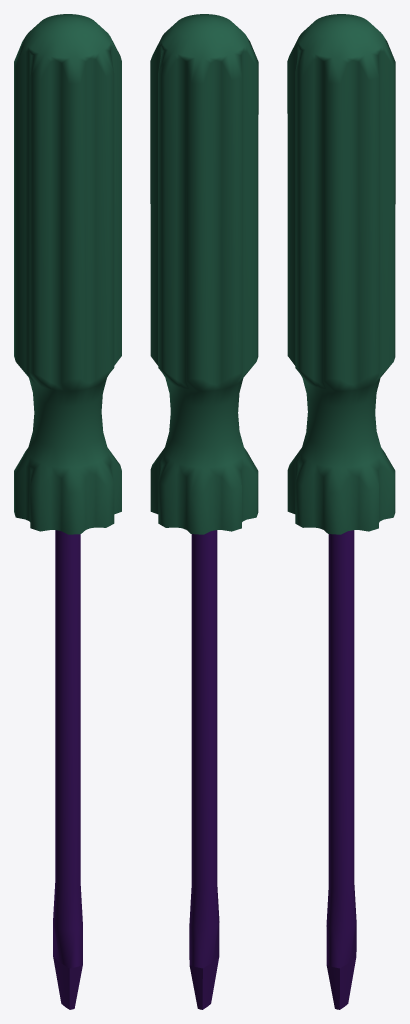
Rendered from Screwdriver.fbx.
3 views of the same model, side by side, from view 1: azimuth 30°, elevation 25°; view 2: azimuth 150°, elevation 25°; view 3: azimuth 330°, elevation 25° (orthographic).
Parts seen in each view (by area): view 1: Screwdriver; view 2: Screwdriver; view 3: Screwdriver.
Boxes of the visible parts, x1,y1,x2,y2 form: Screwdriver: (14,14,121,1009); Screwdriver: (150,14,258,1009); Screwdriver: (287,14,395,1009).
Bounding box in the file's own units: 0.0197 × 0.2056 × 0.0197.
